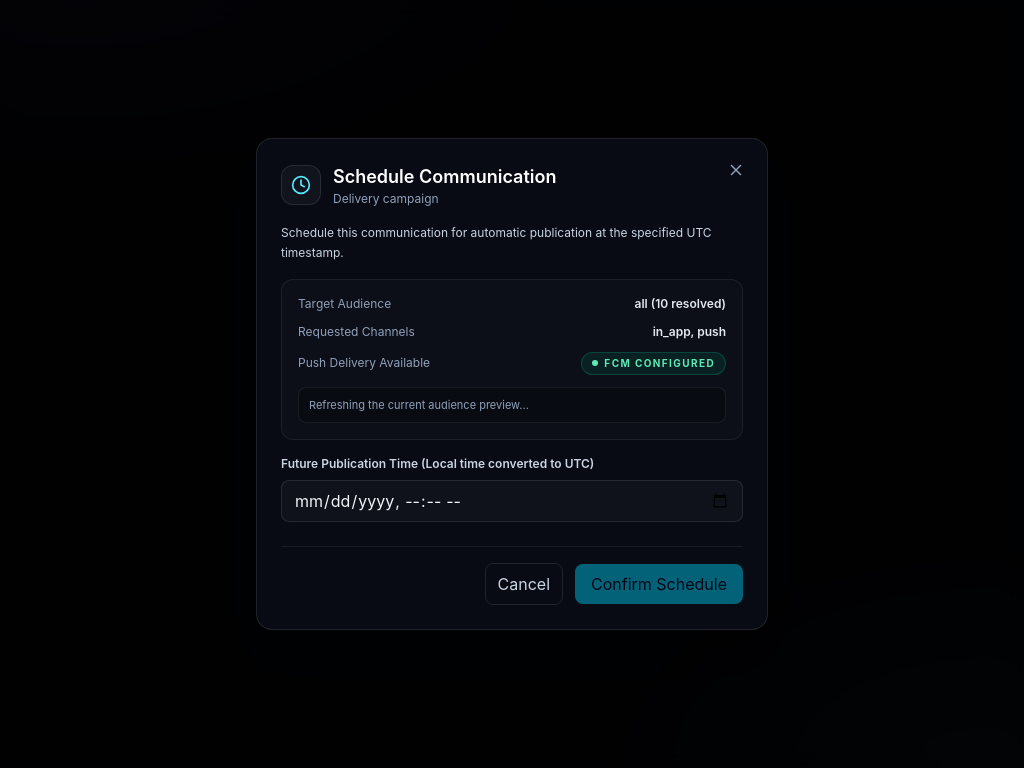
it: consequential action safeguards › prevents a duplicate submission while the mutation is in flight
Type "2099-01-01T10:00" into the field labelled "Future Publication Time (Local time converted to UTC)" at {"x": 512, "y": 502}, box [281,480,743,522]
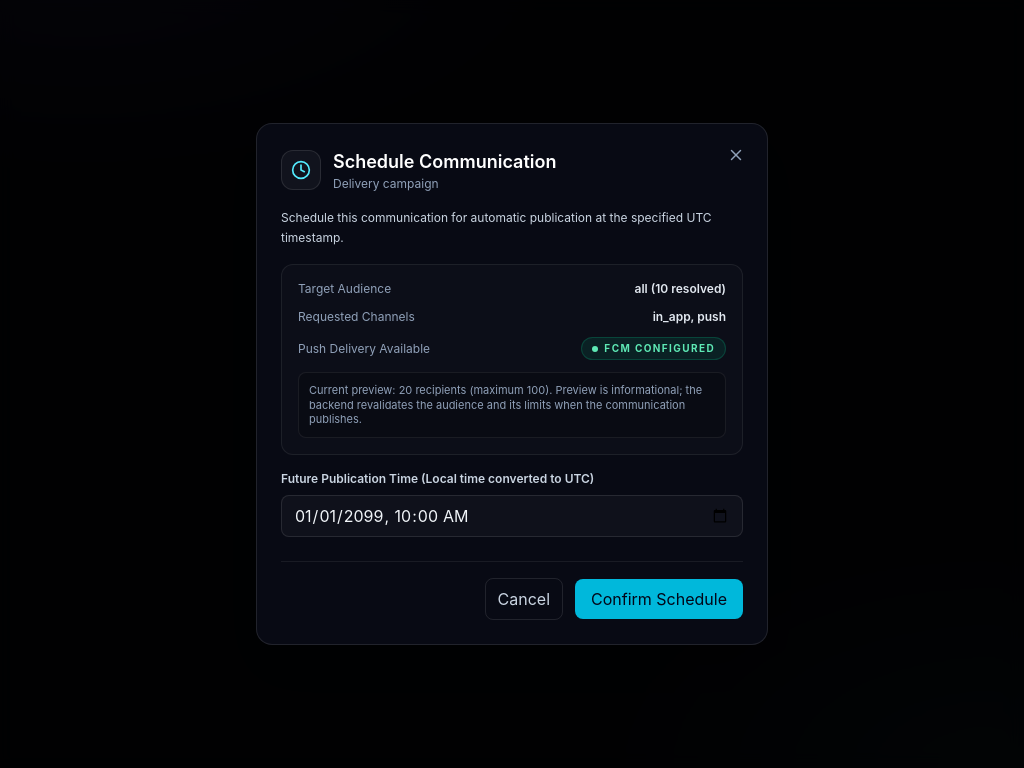
Result: the button "Confirm Schedule" is enabled
Click the button "Confirm Schedule" at {"x": 659, "y": 599}, box [575,579,743,619]
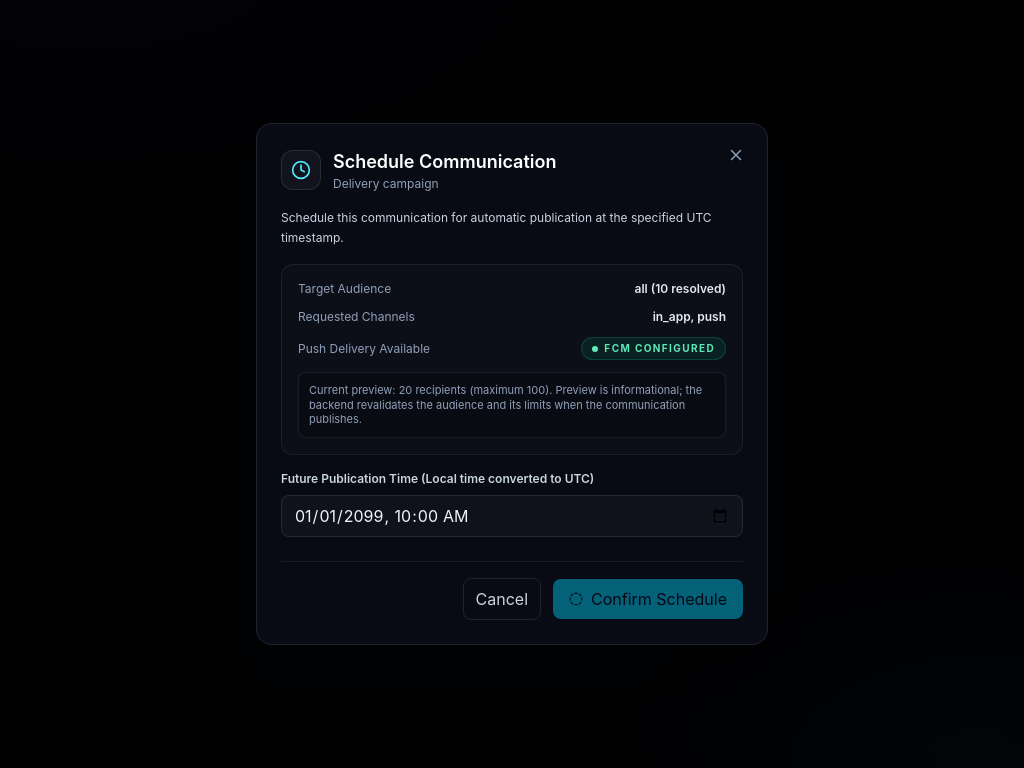
Click the button "Confirm Schedule" at {"x": 648, "y": 599}, box [553,579,743,619]
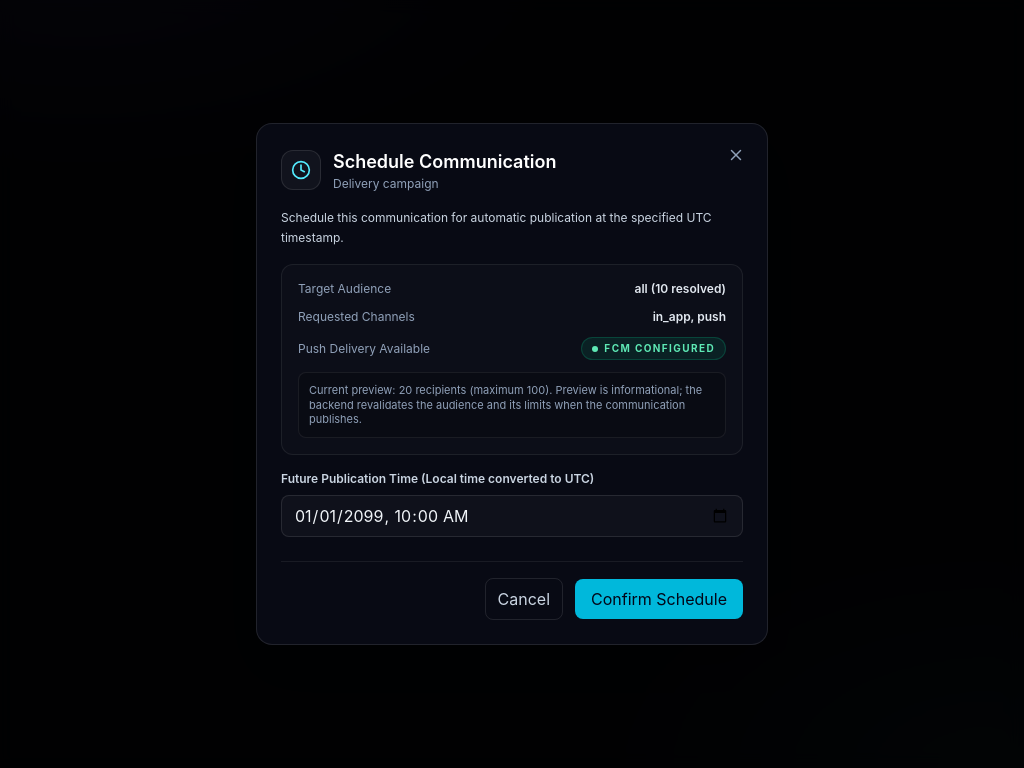
Result: the button "Confirm Schedule" is enabled at [575,579,743,619]
